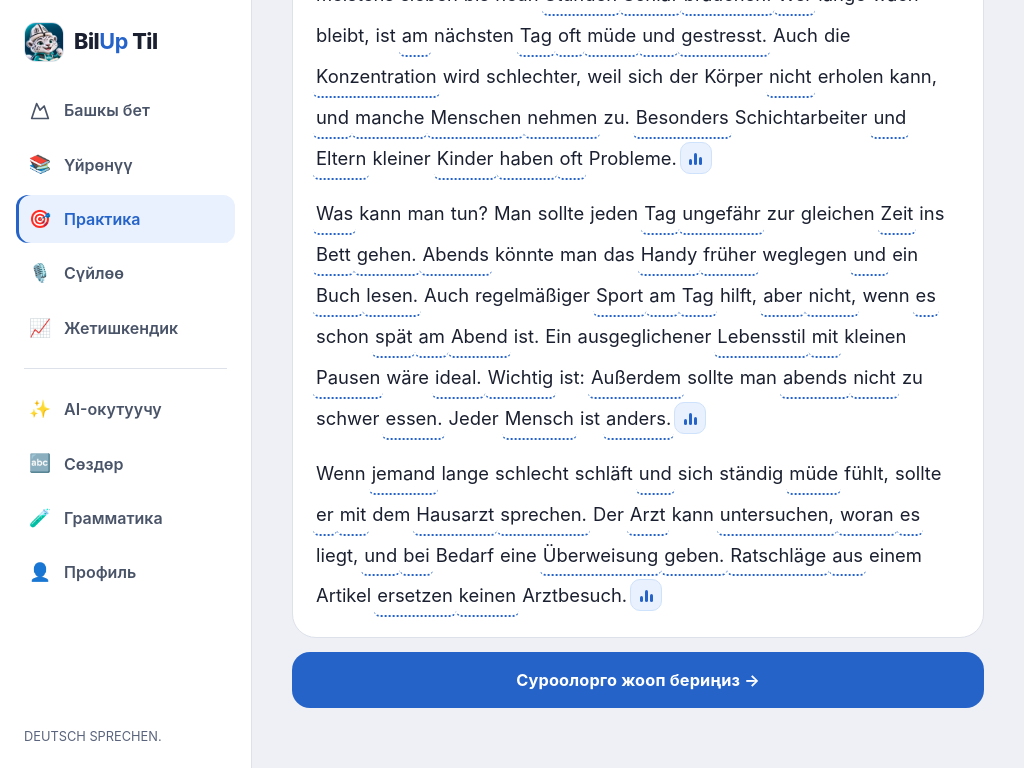
Scenario: reading and listening flows › ky: the reading shows its text and questions; answering one gives feedback and no error is logged
Later steps or results of the test are not shown.
(page scrolled)
What coordinates should you click on to do the following:
click the button "Суроолорго жооп бериңиз →"
I would click on:
 (638, 680)
Its box is [292,652,984,708].
(page scrolled)
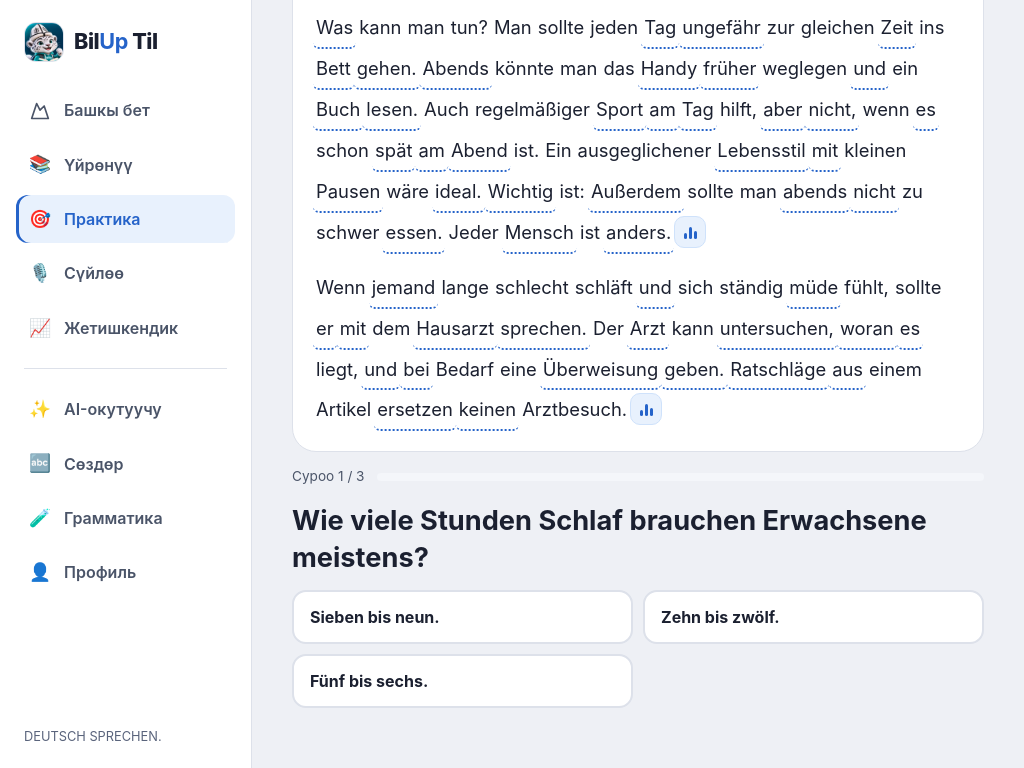
expect the text "Wie viele Stunden Schlaf brauchen Erwachsene meistens?" is shown: met, box [292,503,984,576]
expect the button "Zehn bis zwölf." is shown: met, box [643,590,984,644]
